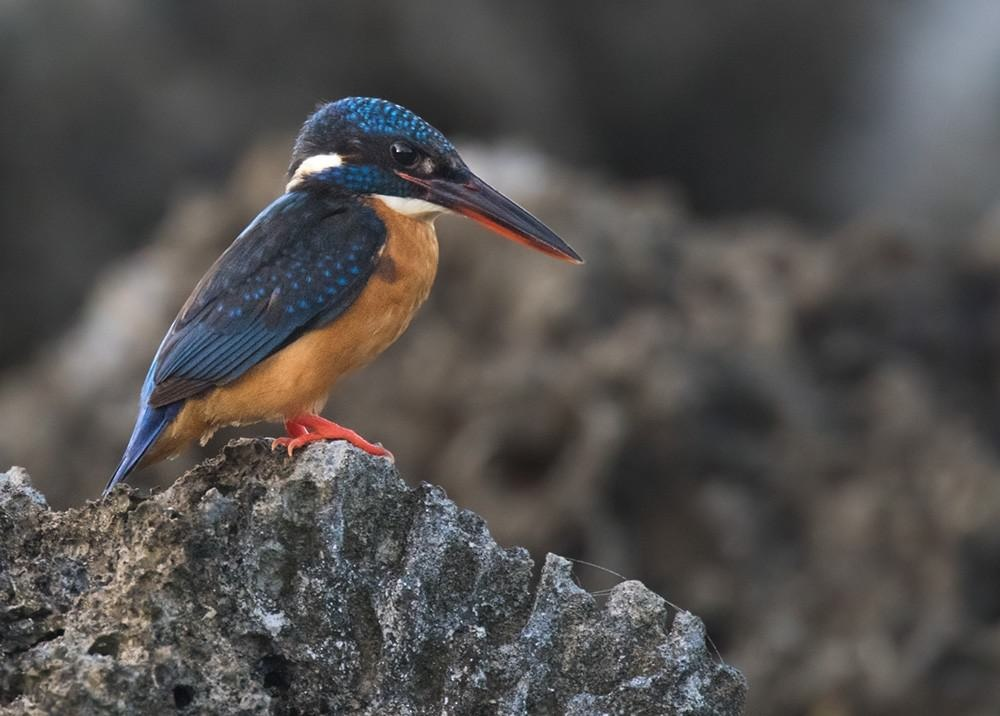kingfisher: (105, 79, 581, 481)
